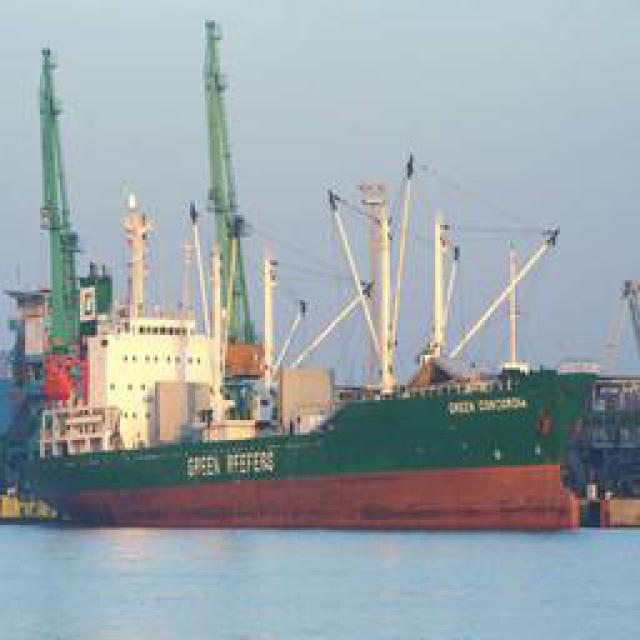Ship: (11, 38, 614, 516)
